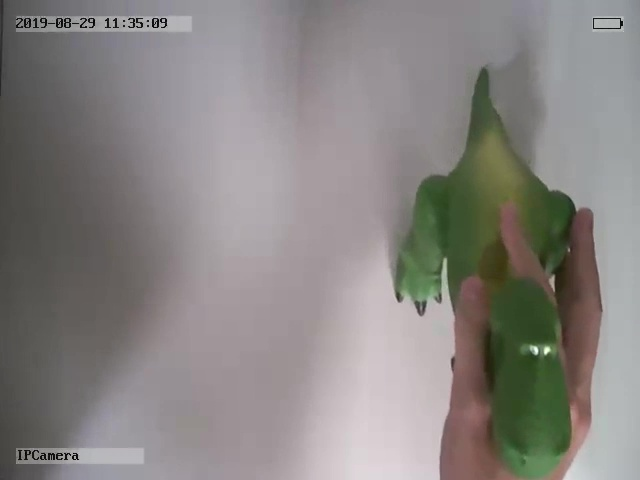rex: (395, 67, 576, 478)
